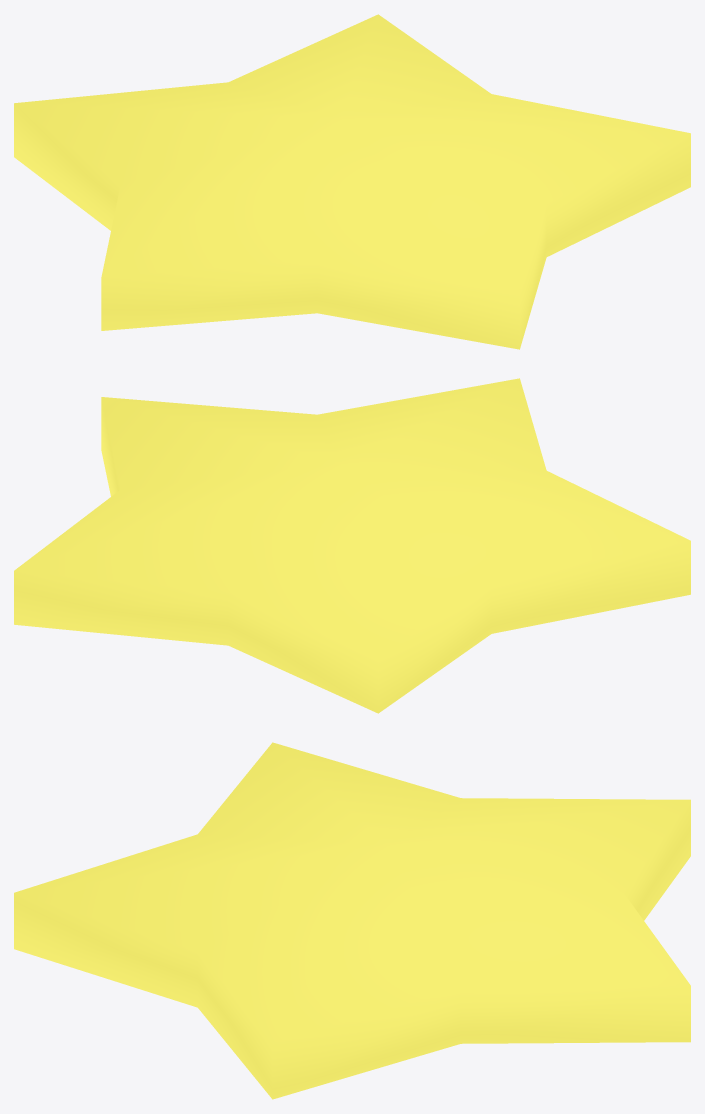
Rendered from Glowing_Star.glb.
3 views of the same model, one above another, from view 1: azimuth 30°, elevation 25°; view 2: azimuth 150°, elevation 25°; view 3: azimuth 270°, elevation 25° (orthographic). The views are drawn at different scales.
Visible parts, largest first — view 1: Star; view 2: Star; view 3: Star.
Part boxes in pixels (x1=…): Star: x1=14, y1=14, x2=690, y2=349; Star: x1=14, y1=378, x2=690, y2=713; Star: x1=14, y1=742, x2=690, y2=1099.
Size of the model in its own units: 1.9 by 0.4486 by 1.81.
